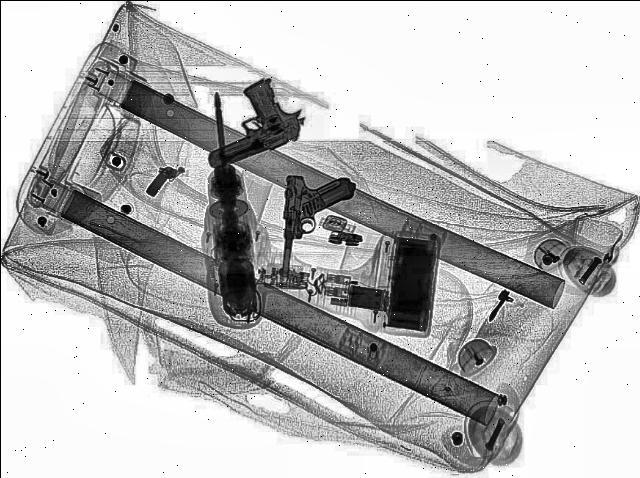Gun: (169, 77, 317, 171), (272, 174, 358, 282)
